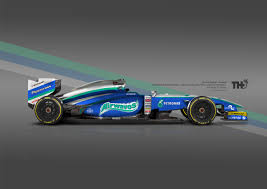FormulaOneCar: (21, 71, 252, 133)
